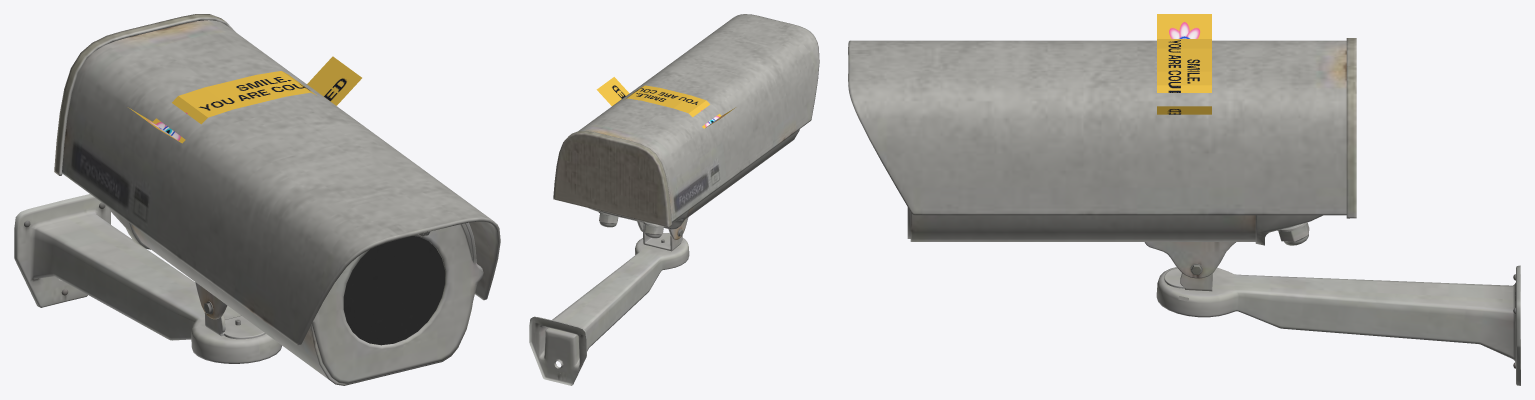
Rendered from nyb_seccam_counted.glb.
3 renders of one model, left to right at view 1: azimuth 30°, elevation 25°; view 2: azimuth 150°, elevation 25°; view 3: azimuth 270°, elevation 25°, orthographic. The views are drawn at different scales.
Visible parts, largest first — view 1: security_camera_01, stk_lbl_25d4742dc3.png; view 2: security_camera_01, stk_lbl_25d4742dc3.png; view 3: security_camera_01, stk_lbl_25d4742dc3.png.
Part boxes in pixels (<box>): security_camera_01: <box>14,14,500,385</box>; stk_lbl_25d4742dc3.png: <box>128,56,361,143</box>; security_camera_01: <box>529,14,819,385</box>; stk_lbl_25d4742dc3.png: <box>596,77,735,128</box>; security_camera_01: <box>848,38,1520,385</box>; stk_lbl_25d4742dc3.png: <box>1157,14,1211,114</box>.
Bounding box in the file's own units: 0.18 × 0.2865 × 0.5537.
Materials: 3 (3 with a texture image).
